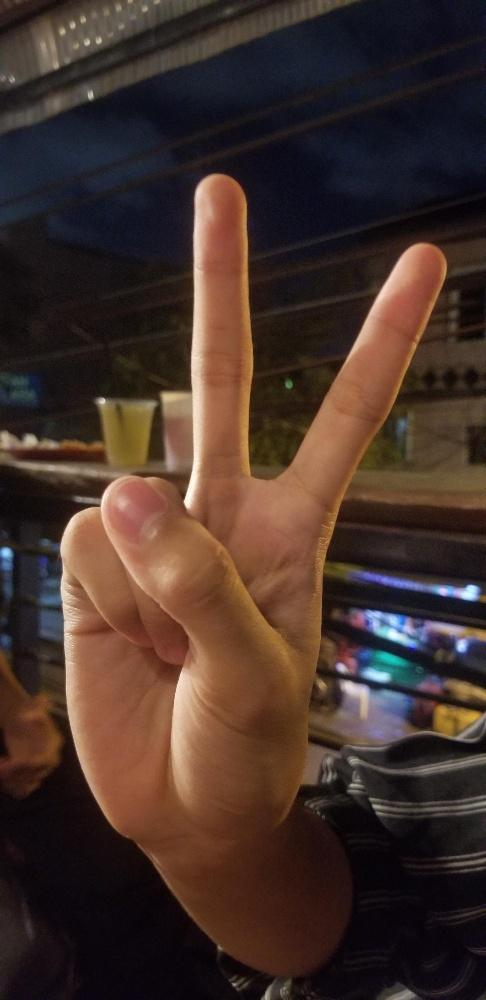v: (58, 169, 447, 839)
